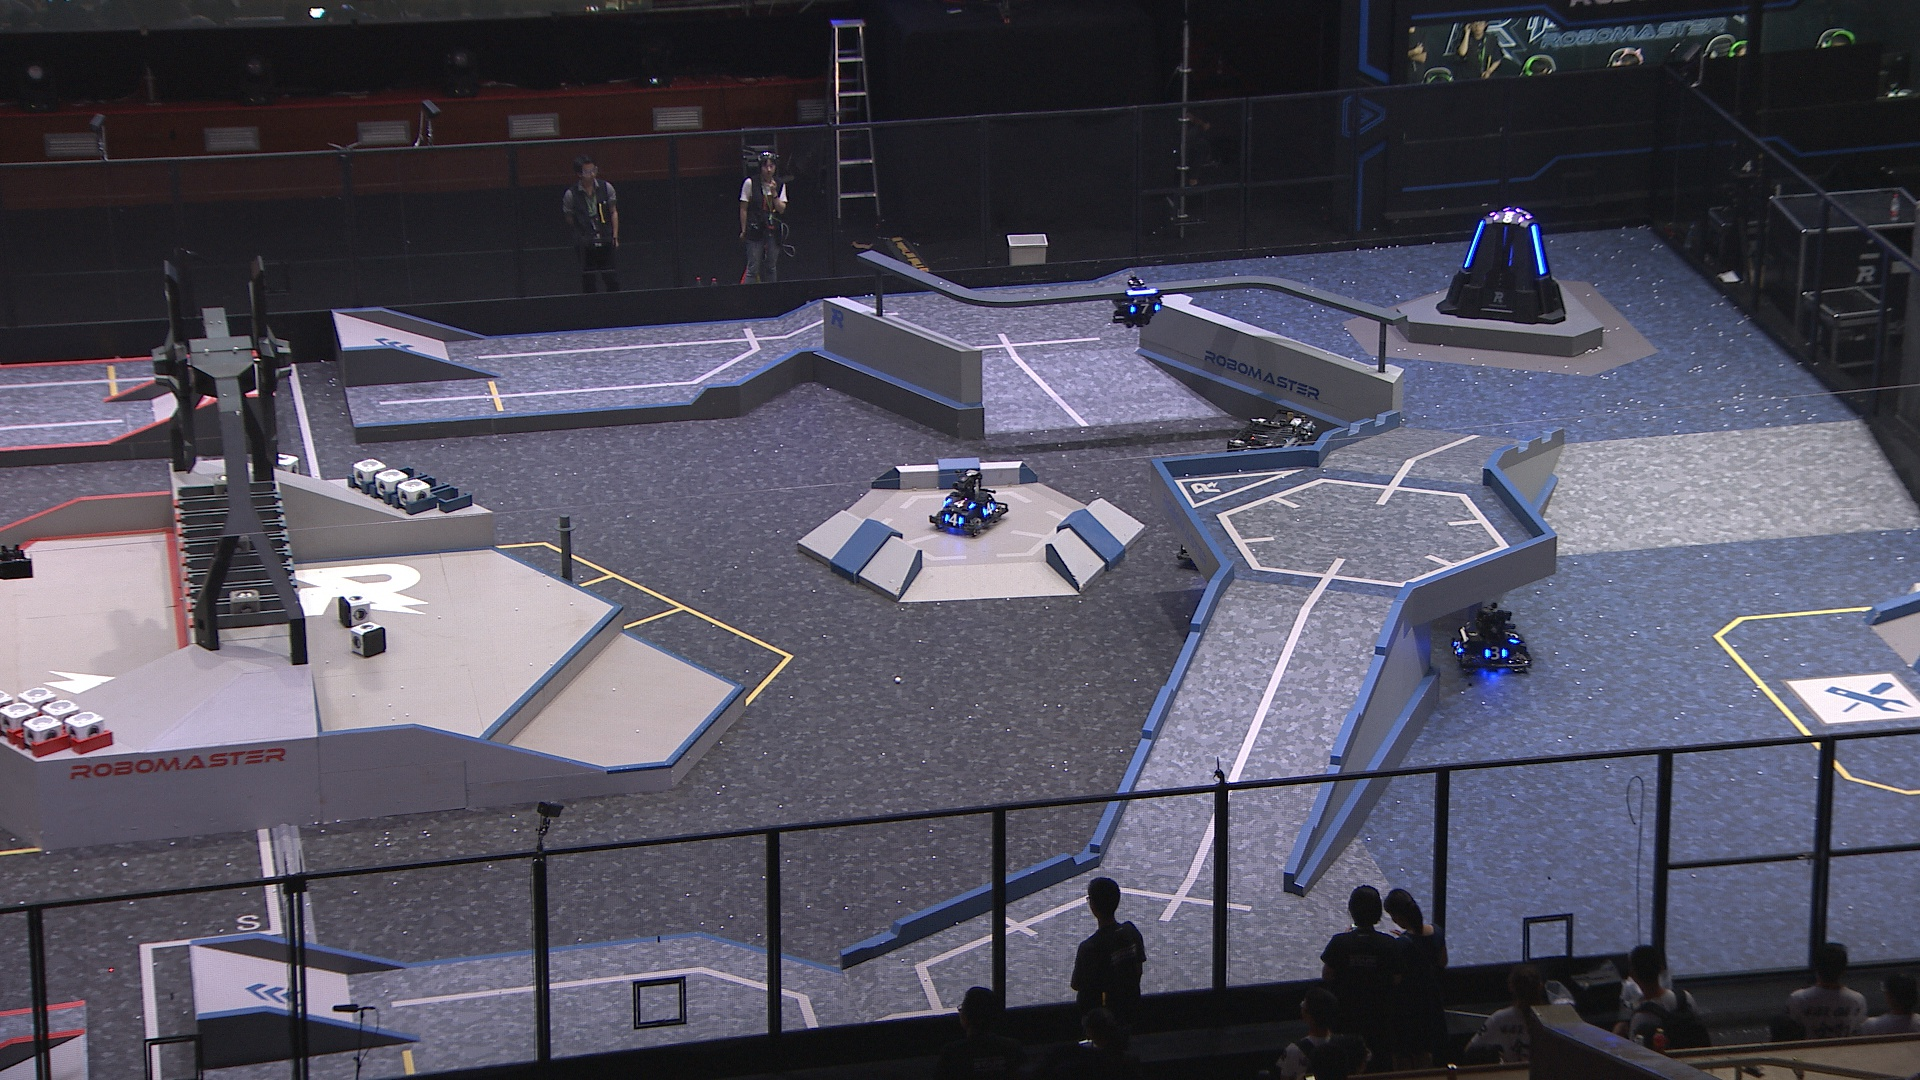armor: (1461, 218, 1489, 273), (1531, 223, 1549, 280), (1482, 644, 1509, 665), (1127, 301, 1160, 316), (945, 495, 977, 510), (942, 510, 967, 527), (1448, 637, 1466, 659), (1503, 626, 1523, 646), (978, 500, 997, 517)
base: (1433, 204, 1571, 324)
car: (1211, 407, 1328, 522), (1443, 595, 1534, 673), (926, 465, 1011, 541)
ignore: (1490, 208, 1524, 225)
watcher: (1110, 272, 1164, 328)
